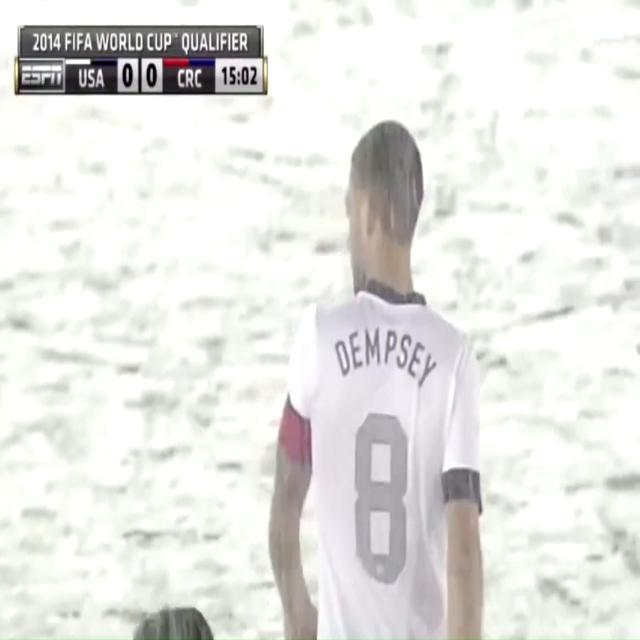player: (267, 95, 503, 640)
